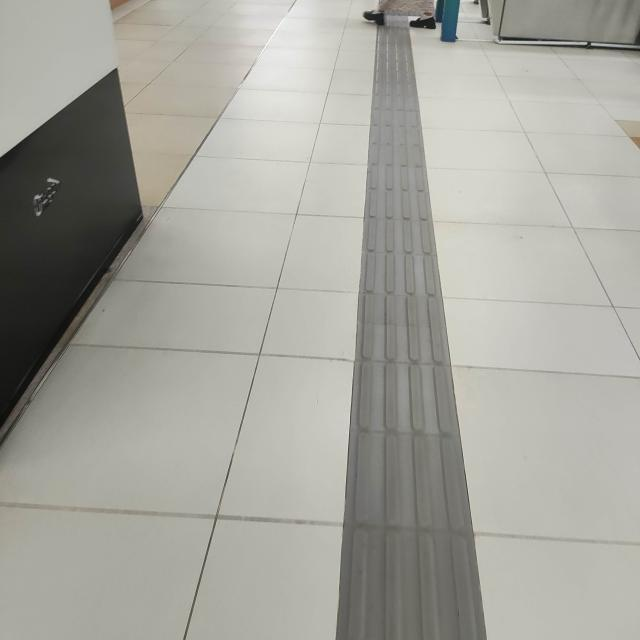lurus: (336, 39, 466, 640)
